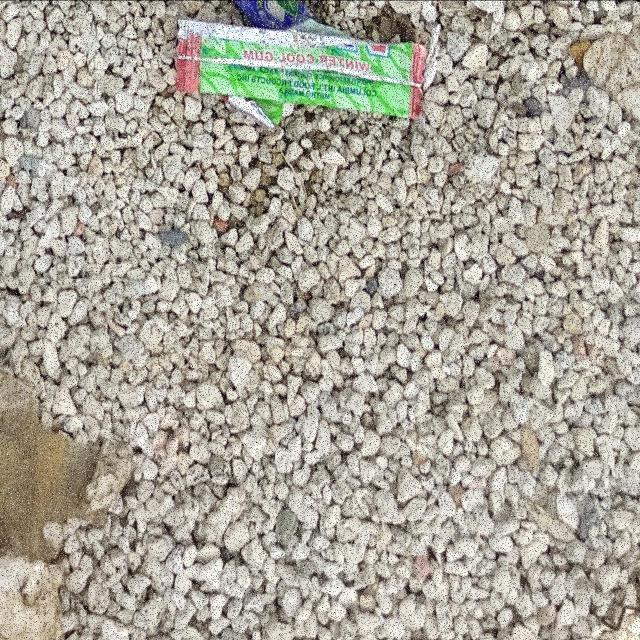plastic_waste: (175, 15, 428, 124)
